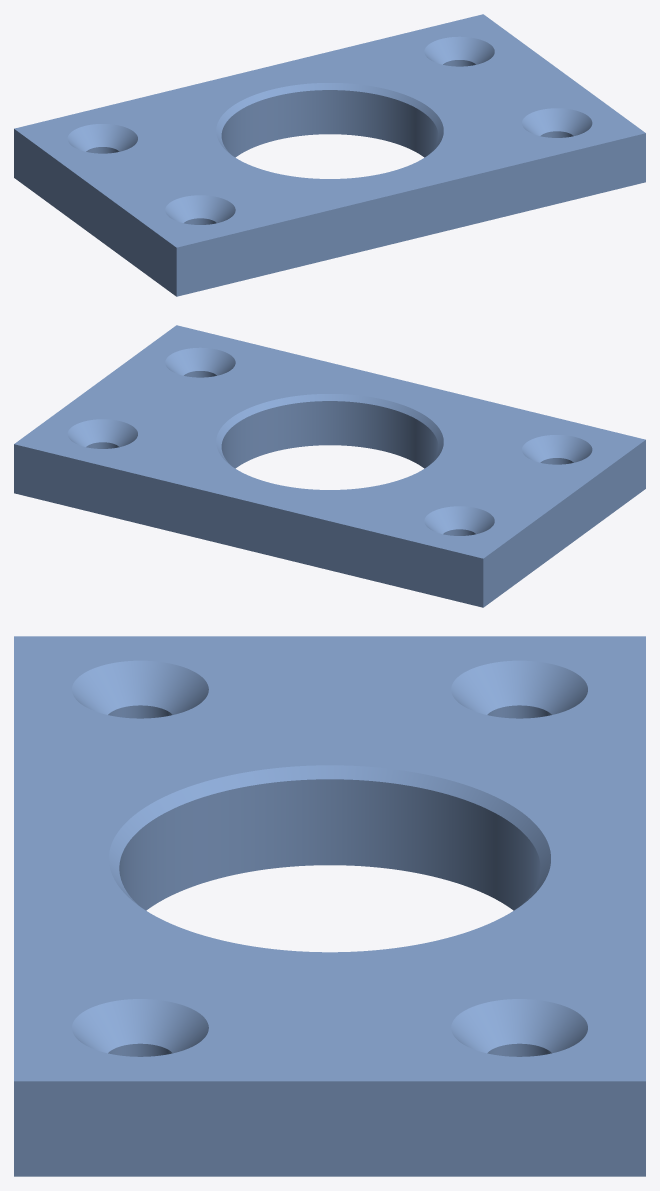
File: annotation_plate.glb
3 renders of one model, top to bottom at view 1: azimuth 30°, elevation 25°; view 2: azimuth 150°, elevation 25°; view 3: azimuth 270°, elevation 25°, orthographic. The views are drawn at different scales.
Visible parts, largest first — view 1: annotation plate; view 2: annotation plate; view 3: annotation plate.
Boxes of the visible parts, x1=… form: annotation plate: x1=14, y1=14, x2=645, y2=296; annotation plate: x1=14, y1=325, x2=645, y2=607; annotation plate: x1=14, y1=636, x2=645, y2=1176.
Size of the model in its own units: 100 by 10 by 60.
